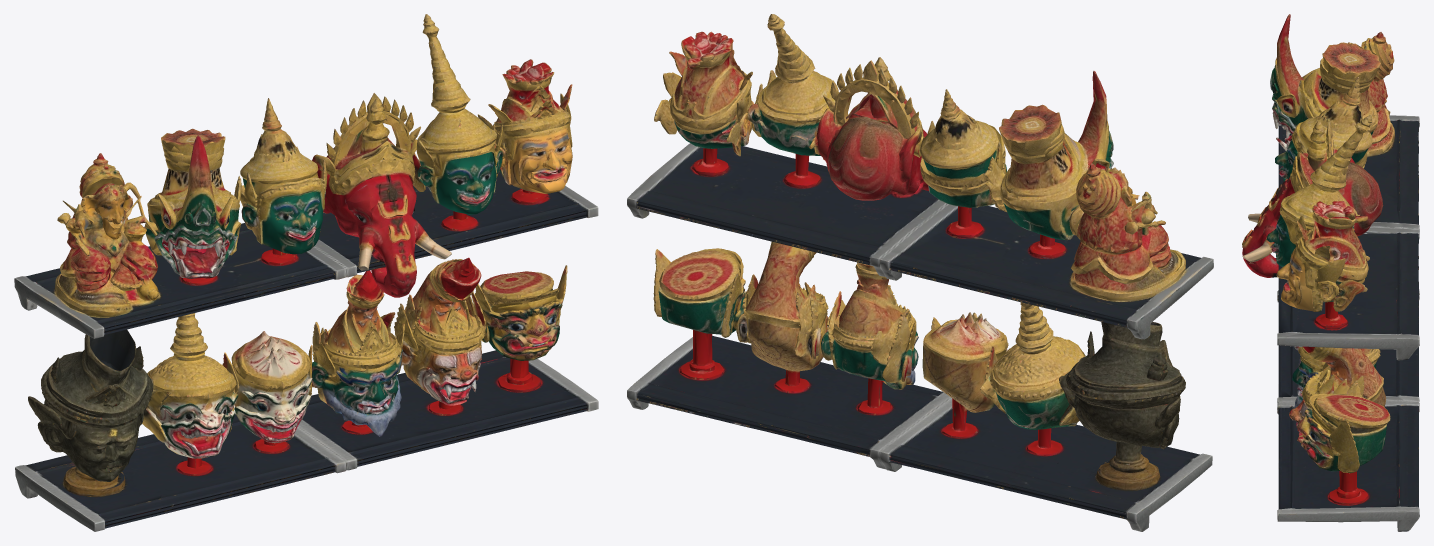
Rendered from lersimask.glb.
3 views of the same model, side by side, from view 1: azimuth 30°, elevation 25°; view 2: azimuth 150°, elevation 25°; view 3: azimuth 270°, elevation 25° (orthographic). The views are drawn at different scales.
Visible parts, largest first — view 1: output; view 2: output; view 3: output.
Boxes of the visible parts, <box> form: output: <box>14,14,598,531</box>; output: <box>627,14,1213,531</box>; output: <box>1242,14,1419,531</box>.
Bounding box in the file's own units: 1.9 × 1.4 × 0.6158.
1 material, 1 textured.
